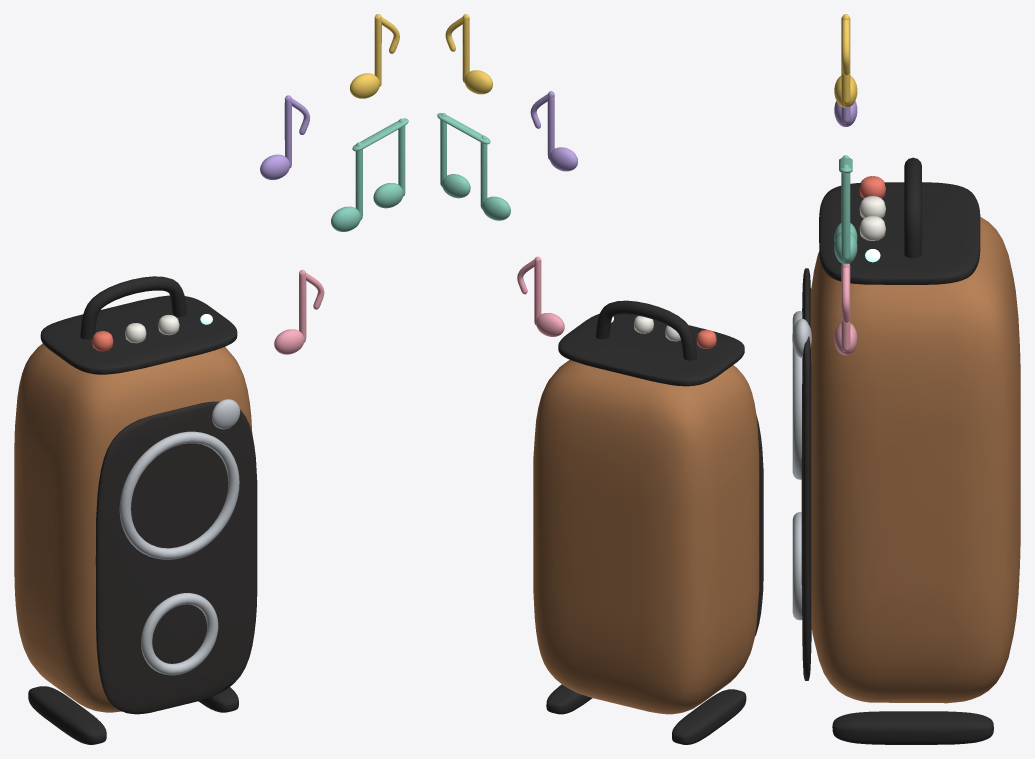
File: parlante.glb
3 views of the same model, side by side, from view 1: azimuth 30°, elevation 25°; view 2: azimuth 150°, elevation 25°; view 3: azimuth 270°, elevation 25° (orthographic). The views are drawn at different scales.
Parts seen in each view (by area): view 1: frente parlante, caja parlante, barra perillas, aro parlante, aro parlante.001, pata parlante, manija parlante, tweeter; view 2: caja parlante, barra perillas, pata parlante, manija parlante, frente parlante, pata parlante.001, cabeza nota 1, cabeza nota 3, cabeza nota 1.001, cabeza nota 2, cabeza nota 0; view 3: caja parlante, barra perillas, pata parlante.001, frente parlante, manija parlante, aro parlante, aro parlante.001, plica 1.001, perilla 2, tweeter, plica 3, perilla 0 (+7 smaller).
Part boxes in pixels (x1,y1,x2,y2): frente parlante: (95,401,257,714); caja parlante: (14,343,252,712); barra perillas: (40,295,237,374); aro parlante: (119,431,239,559); aro parlante.001: (141,593,218,675); pata parlante: (28,686,106,744); manija parlante: (80,276,186,339); tweeter: (212,399,240,429); caja parlante: (533,360,759,714); barra perillas: (558,313,744,386); pata parlante: (672,689,746,744); manija parlante: (595,300,696,360); frente parlante: (755,414,763,636); pata parlante.001: (546,684,592,714); cabeza nota 1: (482,196,510,220); cabeza nota 3: (464,70,492,94); cabeza nota 1.001: (442,174,470,198); cabeza nota 2: (549,147,577,171); cabeza nota 0: (536,313,564,336); caja parlante: (810,217,1020,703); barra perillas: (819,182,980,284); pata parlante.001: (832,711,993,744); frente parlante: (801,268,811,680); manija parlante: (904,157,921,258); aro parlante: (792,311,802,479); aro parlante.001: (792,512,802,620); plica 1.001: (841,164,850,261); perilla 2: (859,216,885,240); tweeter: (792,318,811,357); plica 3: (841,14,850,104); perilla 0: (859,176,885,198).
Bounding box in the file's own units: 0.7231 × 1.34 × 0.3393.
